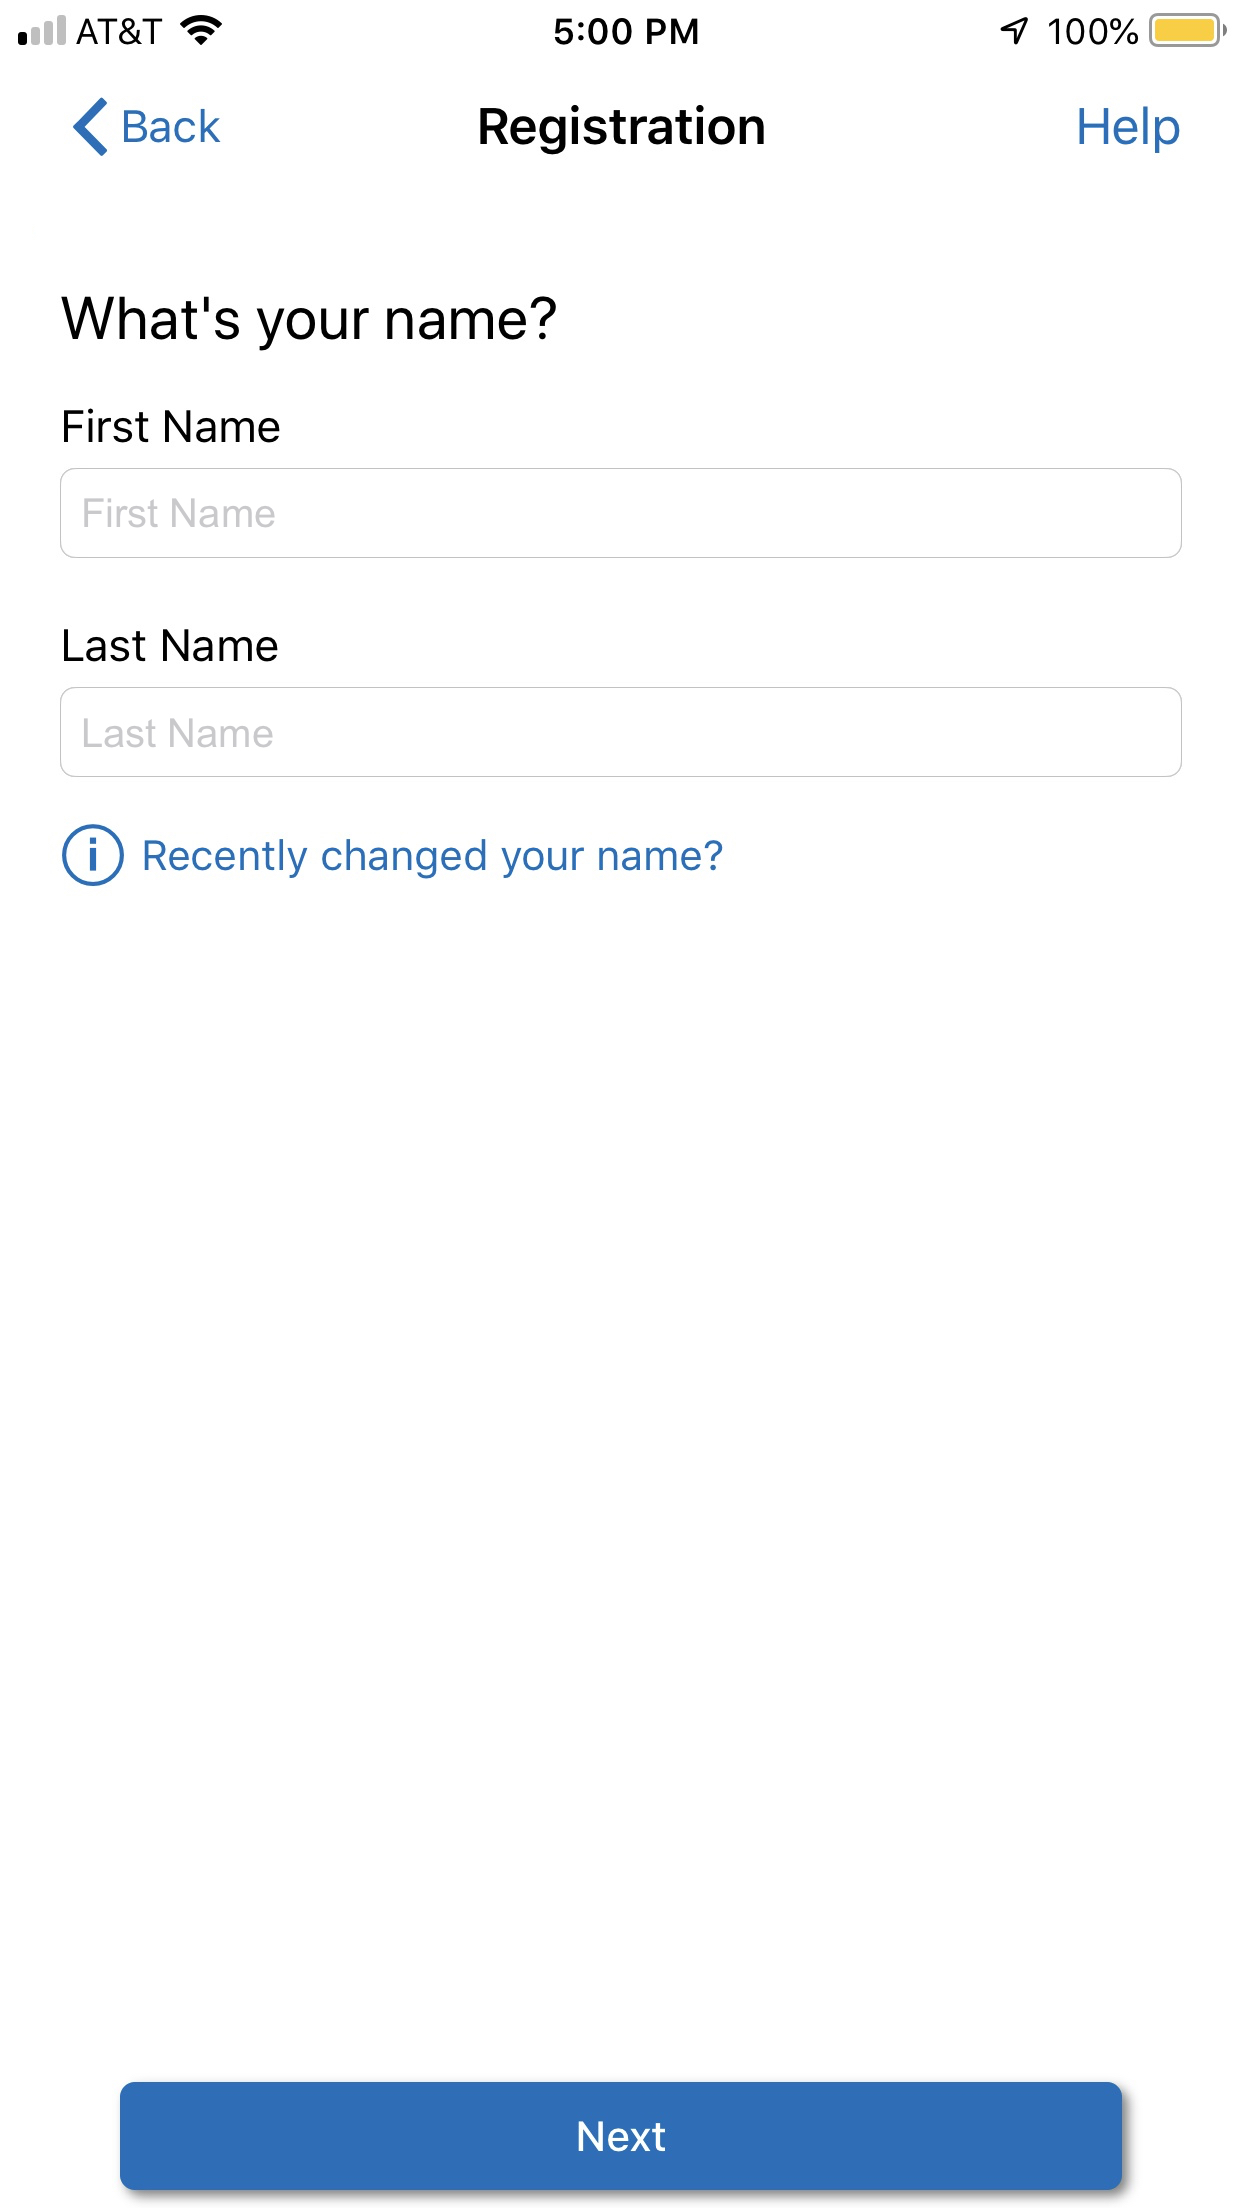EditText: (61, 469, 1181, 560), (61, 688, 1181, 778)
Icon: (62, 823, 124, 887), (73, 99, 109, 158)
Text: (61, 296, 557, 352), (146, 840, 723, 880), (481, 105, 764, 156), (65, 409, 281, 444), (64, 629, 279, 663), (85, 497, 276, 529), (85, 717, 274, 749), (1078, 106, 1180, 155), (124, 109, 221, 144)
TextButton: (120, 2081, 1124, 2191)
UpperTaskBar: (2, 2, 1242, 49)
